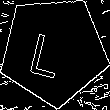L_N: (33, 23, 74, 79)
